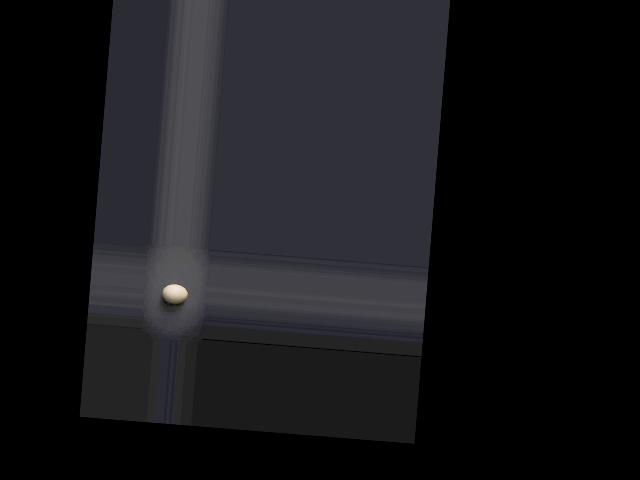egg: (161, 283, 189, 303)
